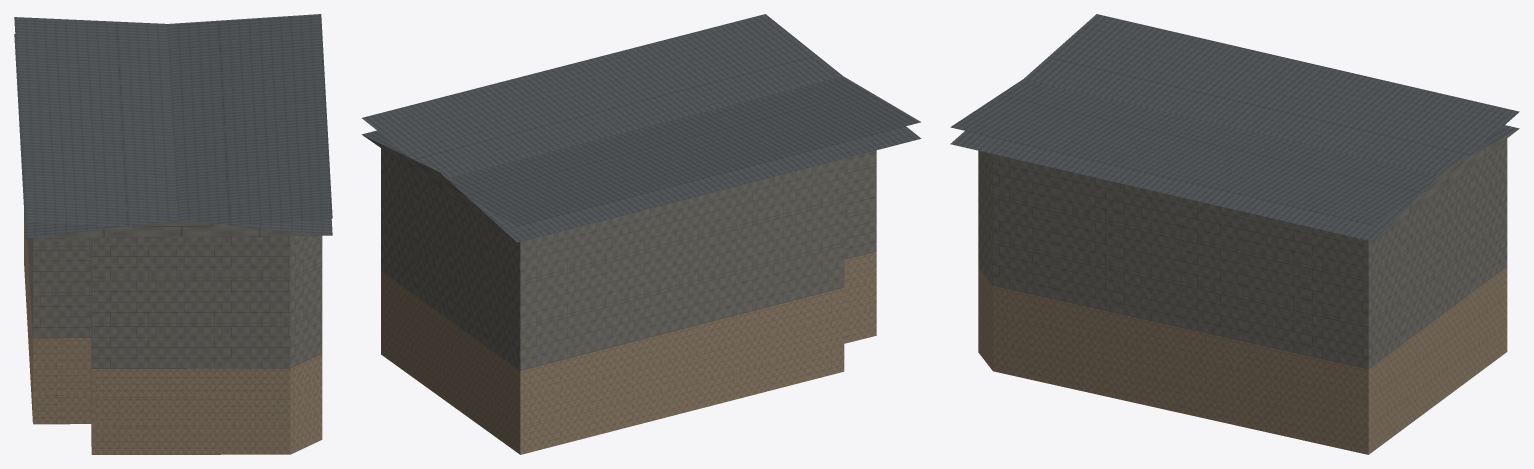
File: bld_c3_-7_595.gltf
3 views of the same model, side by side, from view 1: azimuth 30°, elevation 25°; view 2: azimuth 150°, elevation 25°; view 3: azimuth 270°, elevation 25° (orthographic). The views are drawn at different scales.
Parts seen in each view (by area): view 1: bld_c3_-7_595; view 2: bld_c3_-7_595; view 3: bld_c3_-7_595.
Part boxes in pixels (box(x1,y1,x2,y2)): bld_c3_-7_595: box(14, 14, 332, 454); bld_c3_-7_595: box(361, 14, 921, 454); bld_c3_-7_595: box(950, 14, 1519, 454).
Size of the model in its own units: 26.95 by 14.2 by 30.75.
Materials: 4 (4 with a texture image).
